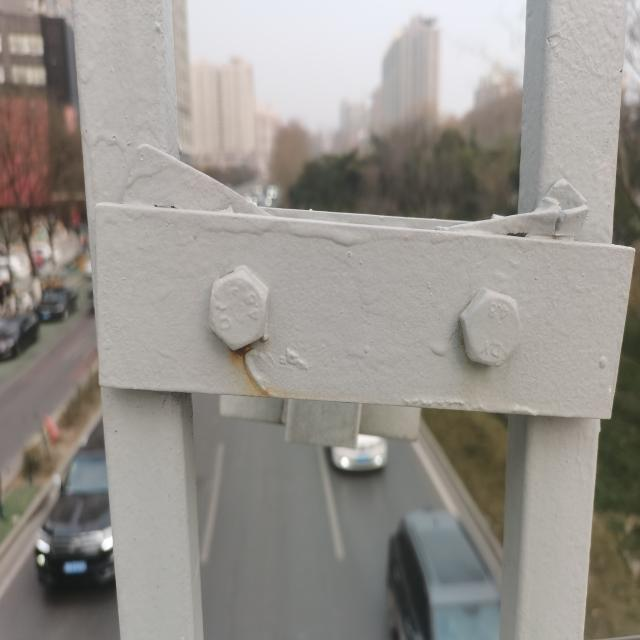bolt head: (204, 262, 272, 356), (457, 279, 524, 372)
